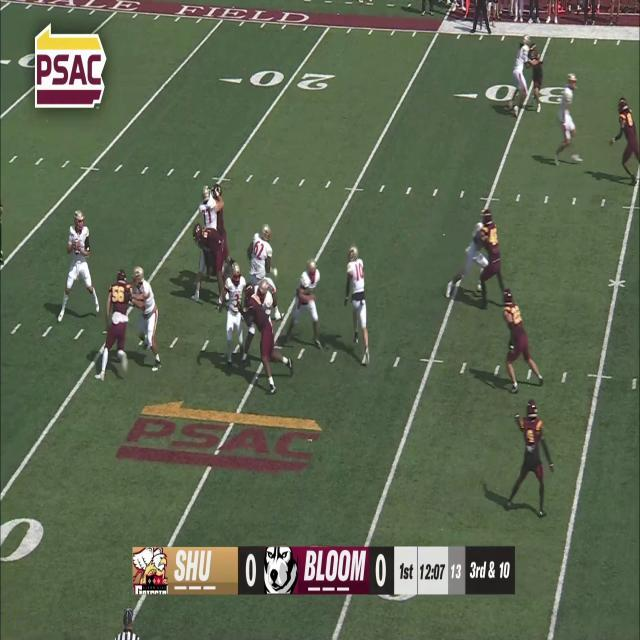football: (74, 239, 80, 255)
